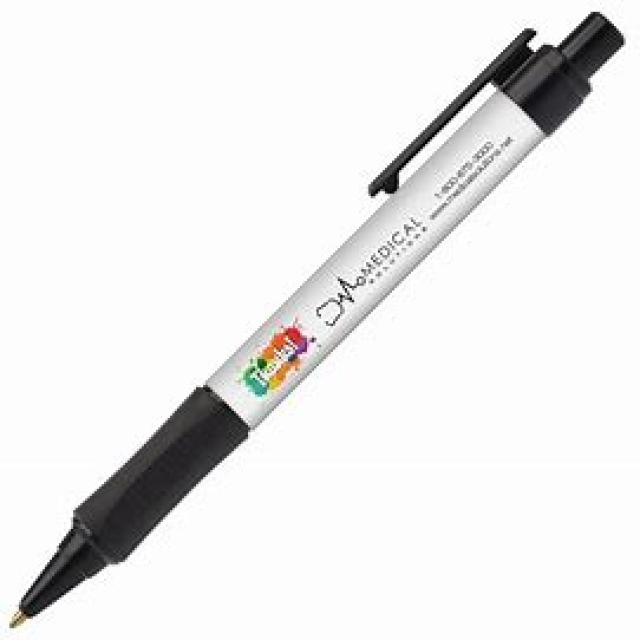pen: (5, 12, 626, 626)
